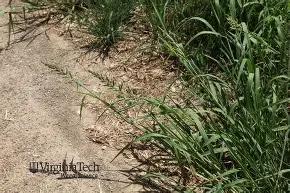weed: (87, 0, 289, 192)
